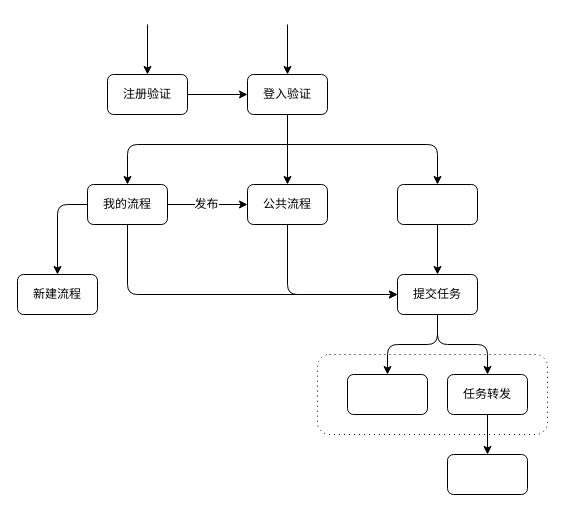
This 565x512 diagram has some shape labels left out. The centre of each missing label's shape, as x and y in pixels:
我的任务: point 437,204
数据存储: point 387,394
集群: point 487,474
